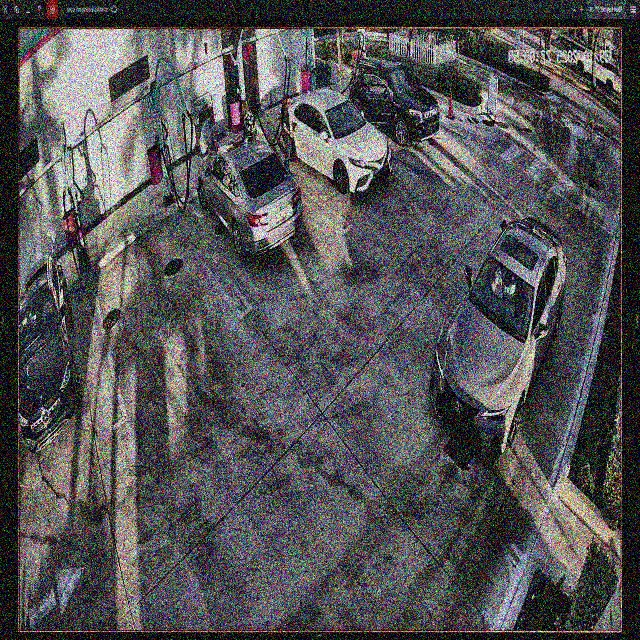Car: (430, 213, 568, 455), (198, 139, 303, 254), (283, 86, 390, 190)
